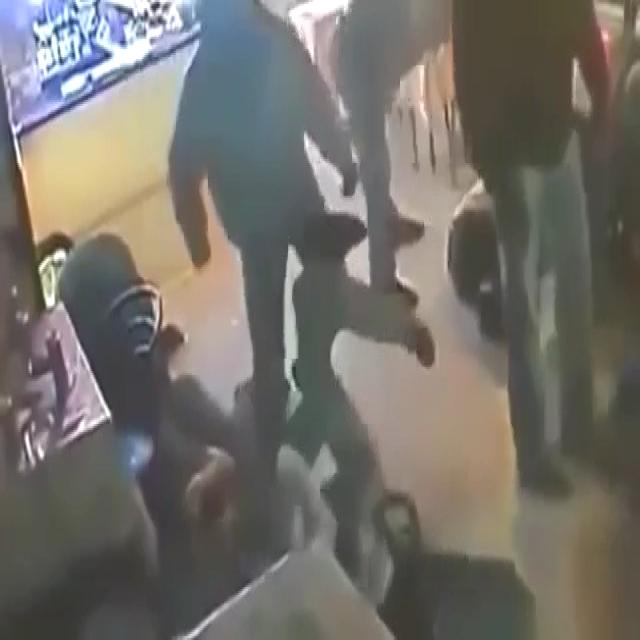fight: (172, 0, 613, 501)
